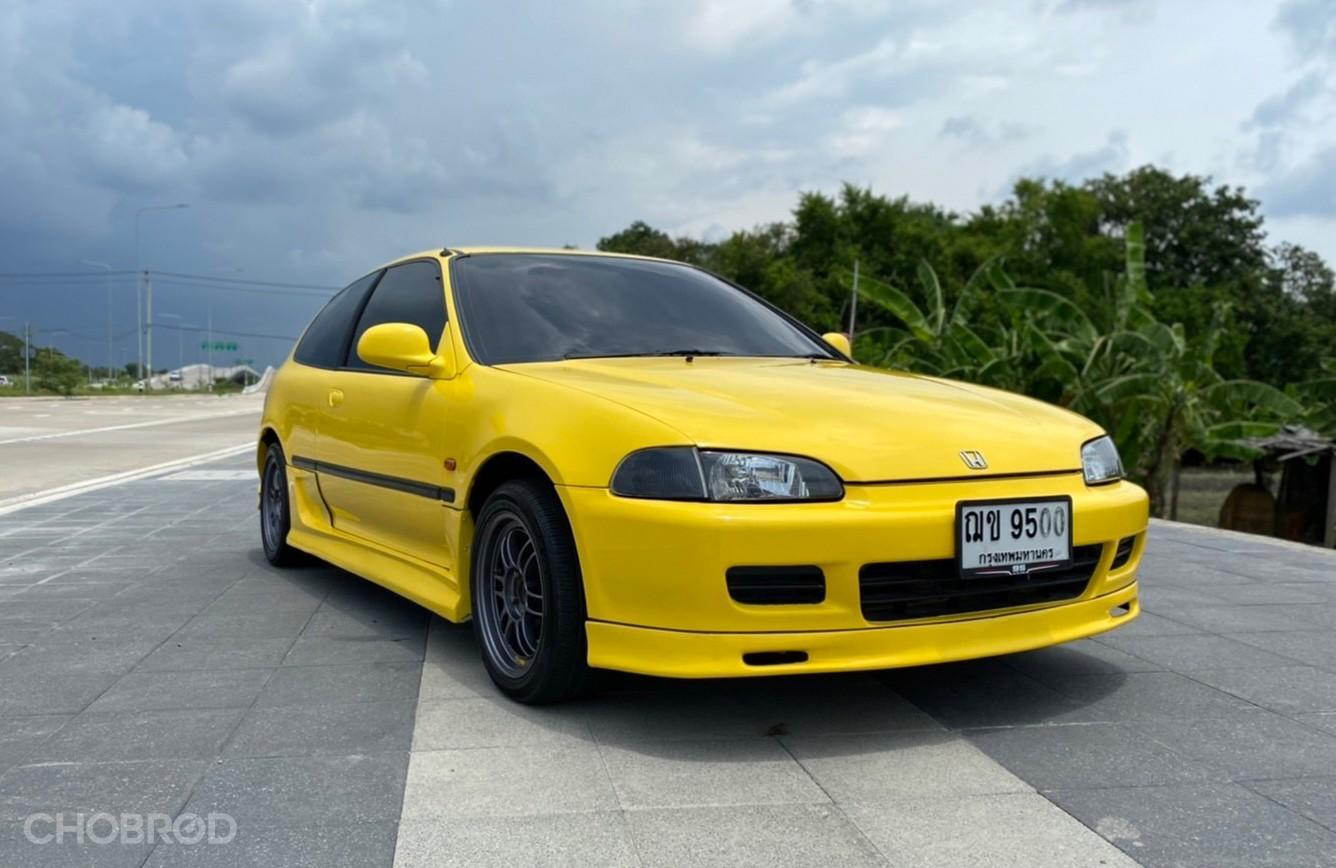license-plate: (951, 487, 1075, 585)
